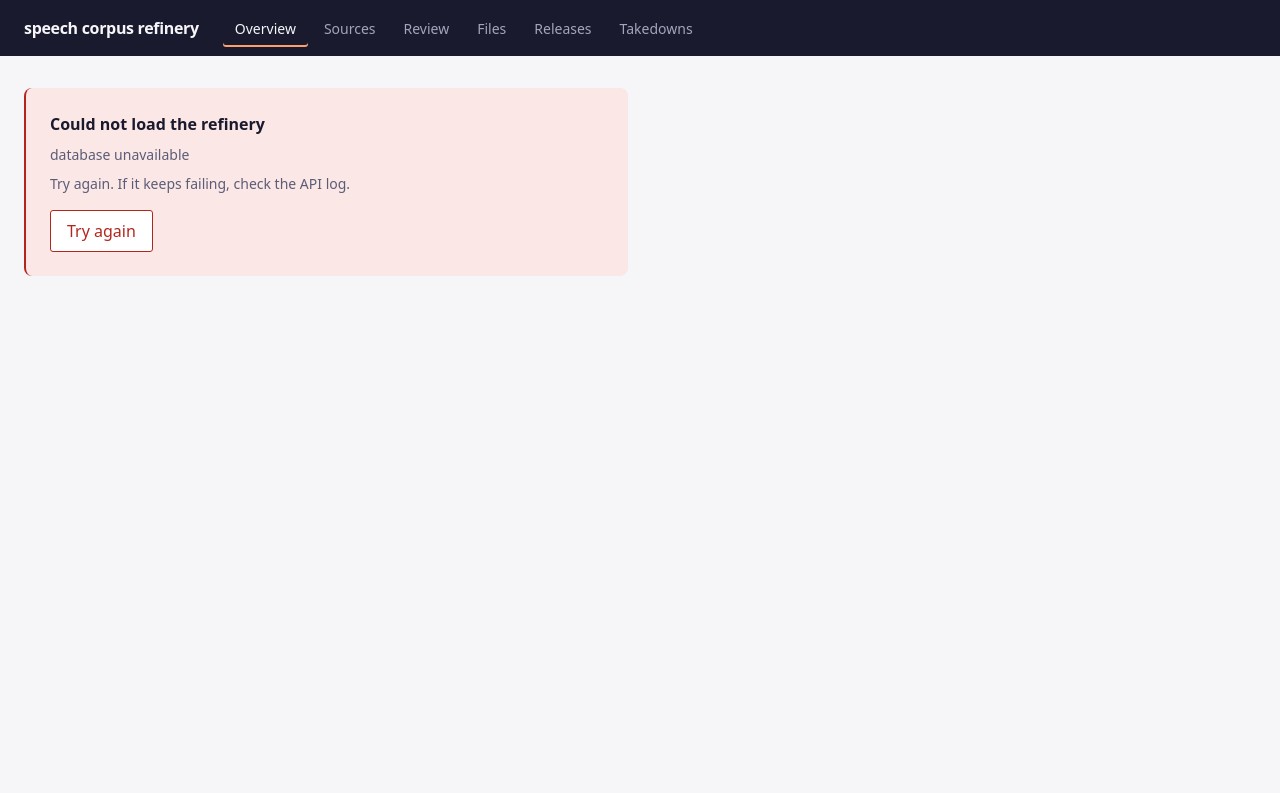
Scenario: overview › explains a failure and retries
The width and height of the screenshot is (1280, 793).
Expected: the text "database unavailable" is shown, [50, 145, 189, 164]
Click the button "Try again".
click(101, 231)  # box [50, 210, 153, 252]
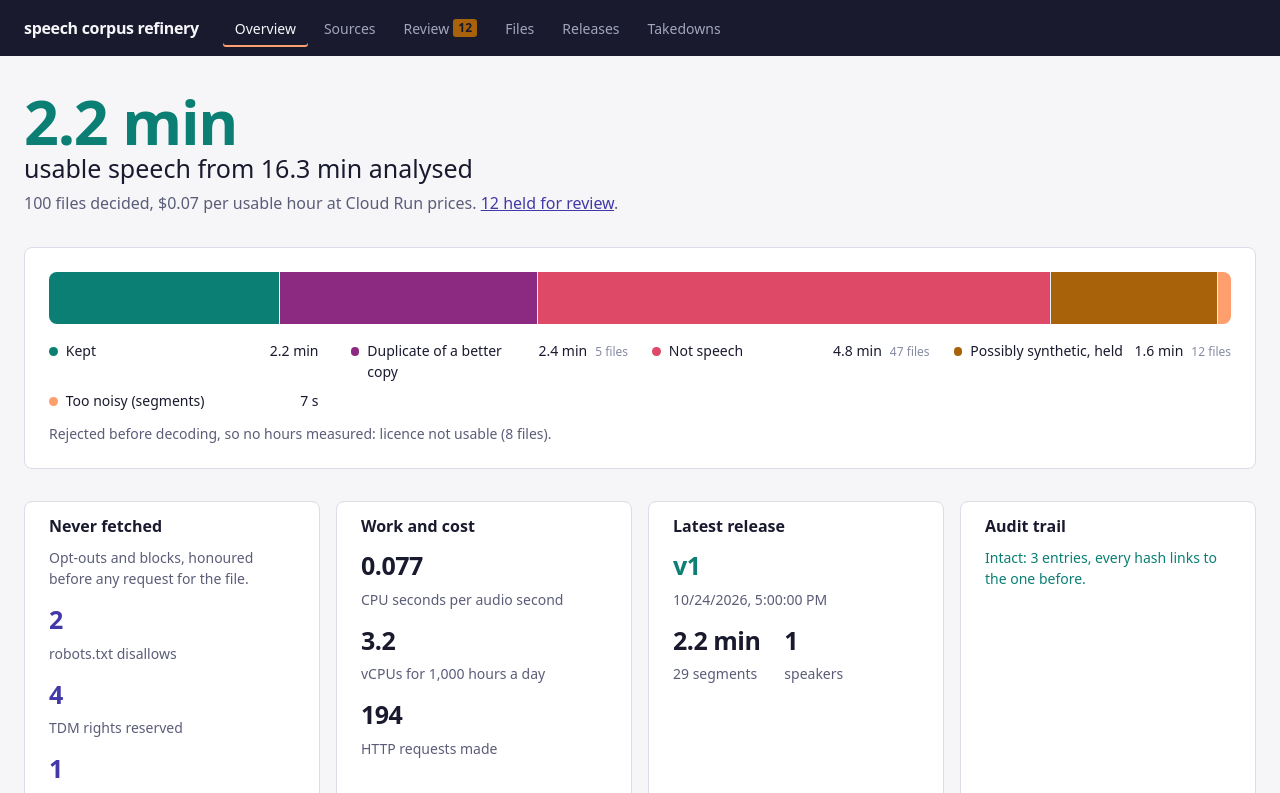
Expected: the text "2.2 min" next to "analysed" is shown, [24, 80, 237, 163]
